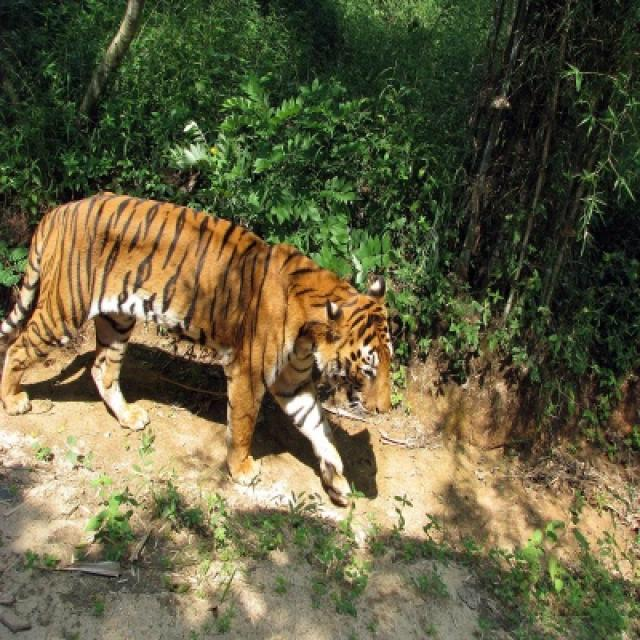Tiger: (0, 193, 395, 507)
